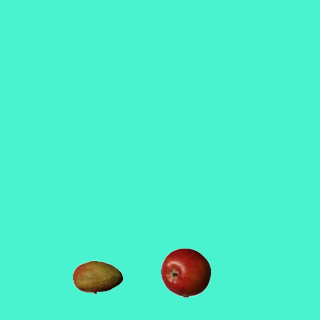Apple Braeburn: (160, 247, 210, 297)
Papaya: (72, 252, 122, 302)
